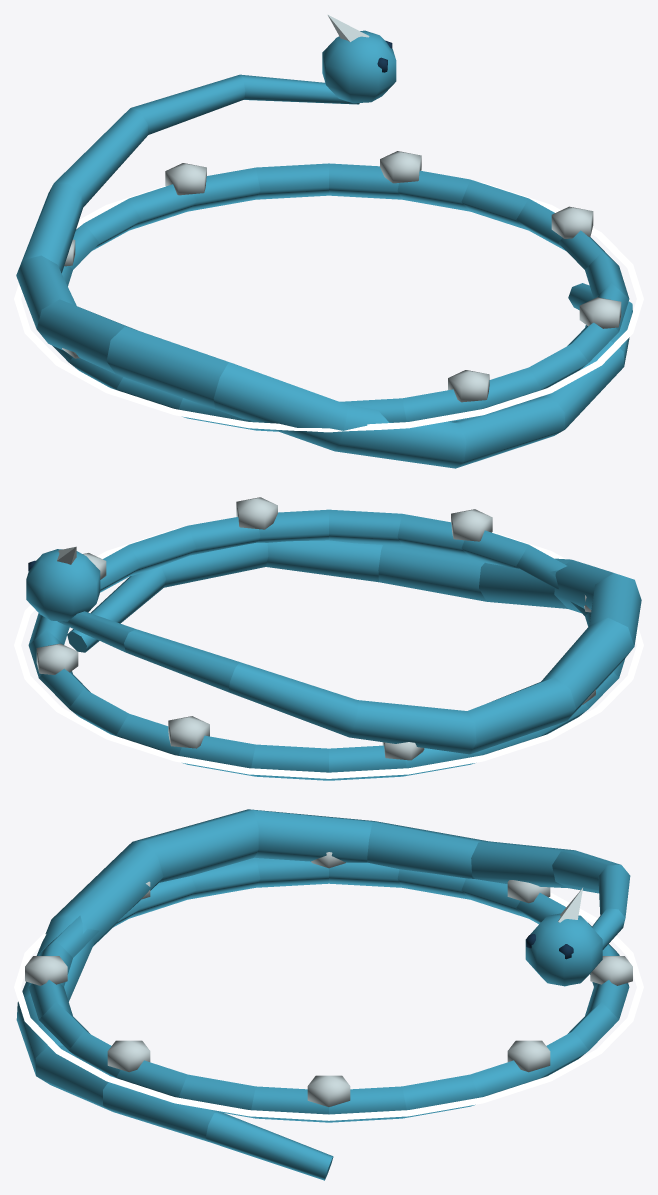
Rendered from nami_p1.glb.
3 renders of one model, top to bottom at view 1: azimuth 30°, elevation 25°; view 2: azimuth 150°, elevation 25°; view 3: azimuth 270°, elevation 25°, orthographic.
Visible parts, largest first — view 1: p1_serpent_body, p1_ring_body, p1_ring_glow; view 2: p1_serpent_body, p1_ring_body, p1_ring_glow; view 3: p1_serpent_body, p1_ring_body, p1_ring_glow.
Part boxes in pixels (box(x1,y1,x2,y2)): p1_serpent_body: box(16, 14, 632, 468); p1_ring_body: box(52, 151, 629, 431); p1_ring_glow: box(14, 182, 643, 432); p1_serpent_body: box(26, 540, 641, 754); p1_ring_body: box(28, 497, 625, 780); p1_ring_glow: box(14, 528, 643, 778); p1_serpent_body: box(16, 809, 630, 1180); p1_ring_body: box(25, 852, 632, 1122); p1_ring_glow: box(14, 892, 643, 1120).
Bounding box in the file's own units: 0.78 × 0.3154 × 0.78.
